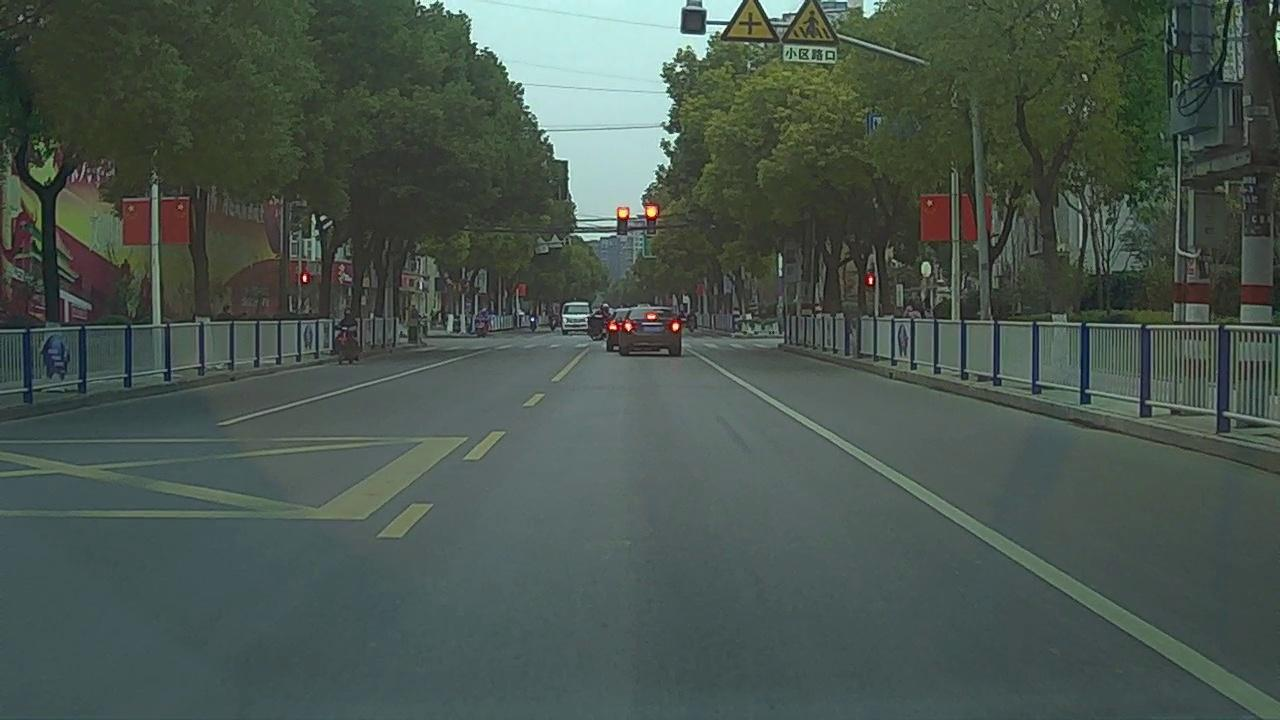traffic_light: (617, 207, 628, 235), (645, 205, 655, 234)
